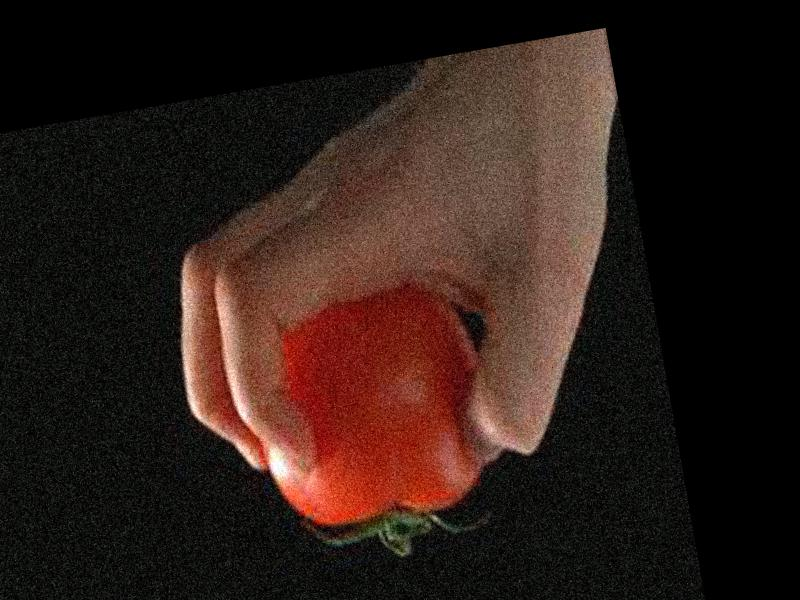Tomato: (244, 284, 506, 572)
